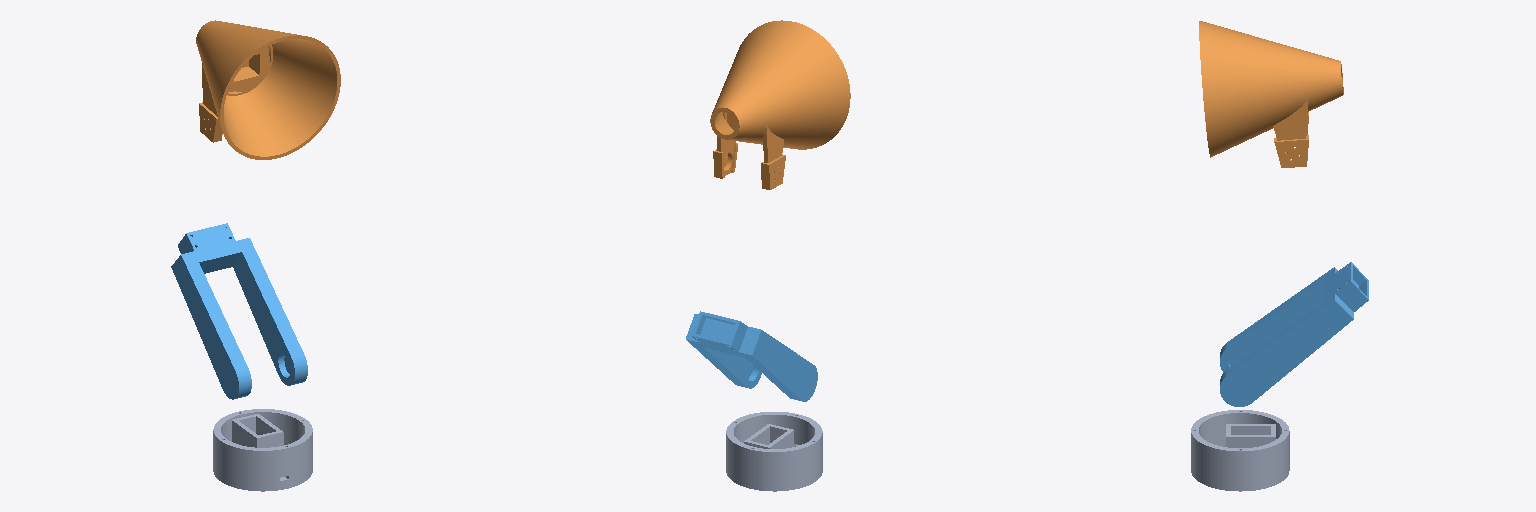
robot.urdf — lamp_cad_three_part_alignment:
<?xml version="1.0"?>
<robot name="lamp_cad_three_part_alignment">
  <link name="base_link"/>
  <link name="base_visual">
    <visual>
      <!-- Mesh vertices in original Fusion-exported coordinates, millimeters. -->
      <origin xyz="0 0 0" rpy="0 0 0"/>
      <geometry><mesh filename="package://lamp_cad_assembly_preview/meshes/Base1.stl" scale="0.001 0.001 0.001"/></geometry>
      <material name="base_visual_color"><color rgba="0.72 0.76 0.84 1"/></material>
    </visual>
  </link>
  <joint name="base_to_base_visual" type="fixed">
    <parent link="base_link"/>
    <child link="base_visual"/>
    <!-- Shared CAD origin; rotate 180 deg X so negative CAD Z becomes upright. -->
    <origin xyz="0 0 0.065" rpy="3.141592653589793 0 0"/>
  </joint>
  <link name="arm1_visual">
    <visual>
      <!-- Mesh vertices in original Fusion-exported coordinates, millimeters. -->
      <origin xyz="0 0 0" rpy="0 0 0"/>
      <geometry><mesh filename="package://lamp_cad_assembly_preview/meshes/arm1.stl" scale="0.001 0.001 0.001"/></geometry>
      <material name="arm1_visual_color"><color rgba="0.42 0.72 0.95 1"/></material>
    </visual>
  </link>
  <joint name="base_to_arm1_visual" type="fixed">
    <parent link="base_link"/>
    <child link="arm1_visual"/>
    <!-- Shared CAD origin; rotate 180 deg X so negative CAD Z becomes upright. -->
    <origin xyz="0 0 0.065" rpy="3.141592653589793 0 0"/>
  </joint>
  <link name="head2_visual">
    <visual>
      <!-- Mesh vertices in original Fusion-exported coordinates, millimeters. -->
      <origin xyz="0 0 0" rpy="0 0 0"/>
      <geometry><mesh filename="package://lamp_cad_assembly_preview/meshes/head2.stl" scale="0.001 0.001 0.001"/></geometry>
      <material name="head2_visual_color"><color rgba="0.94 0.65 0.36 1"/></material>
    </visual>
  </link>
  <joint name="base_to_head2_visual" type="fixed">
    <parent link="base_link"/>
    <child link="head2_visual"/>
    <!-- Shared CAD origin; rotate 180 deg X so negative CAD Z becomes upright. -->
    <origin xyz="0 0 0.065" rpy="3.141592653589793 0 0"/>
  </joint>
</robot>

--- Render facts (derived) ---
3 views of the same robot in one strip: view 1: azimuth 30°, elevation 25°; view 2: azimuth 150°, elevation 25°; view 3: azimuth 270°, elevation 25° (orthographic).
Robot: lamp_cad_three_part_alignment — 4 links, 3 joints (3 fixed); root link base_link; default pose: every joint at zero.
Links seen in each view (by area): view 1: head2_visual, arm1_visual, base_visual; view 2: head2_visual, base_visual, arm1_visual; view 3: head2_visual, arm1_visual, base_visual.
Link boxes in pixels (x1,y1,x2,y2): head2_visual: (196,20,340,159); arm1_visual: (171,223,307,399); base_visual: (213,409,312,491); head2_visual: (710,20,850,189); base_visual: (726,412,822,491); arm1_visual: (686,311,817,401); head2_visual: (1199,21,1343,167); arm1_visual: (1220,262,1368,406); base_visual: (1191,410,1289,491).
Size in the robot's own frame: 0.14 by 0.1807 by 0.4977 metres.
3 mesh visuals loaded from 3 distinct referenced files (3 binary STL).
